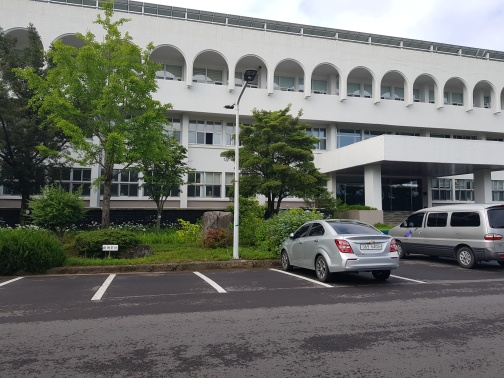Main Building of University: (19, 3, 500, 206), (317, 131, 502, 206), (148, 42, 309, 99), (345, 62, 498, 117)
